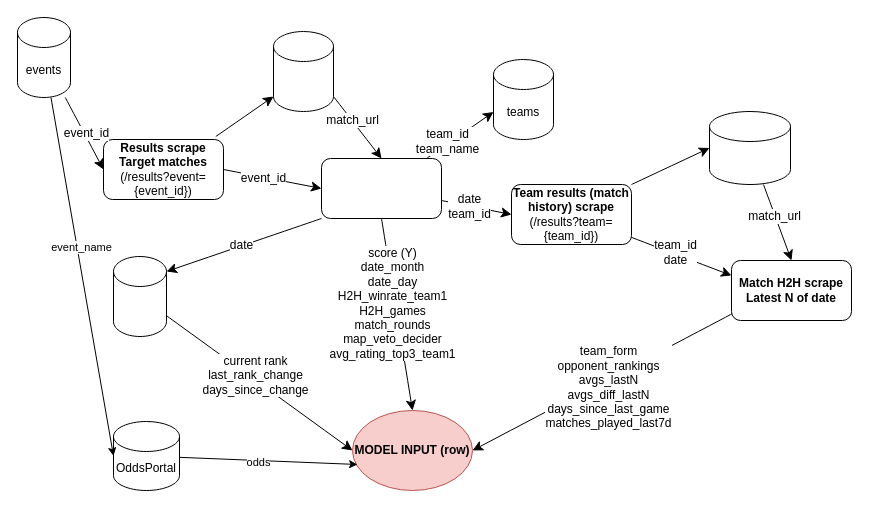
Some shapes in this 869 by 508 pixel diagram are drawn without their labels. The shapes that lost their labels are listed below. From the top down, each one's centre as x and y in pixels, then its label:
[303,71]: match_urls
[749,147]: match_history
[381,188]: Match H2H scrape Target match
[139,296]: rankings
